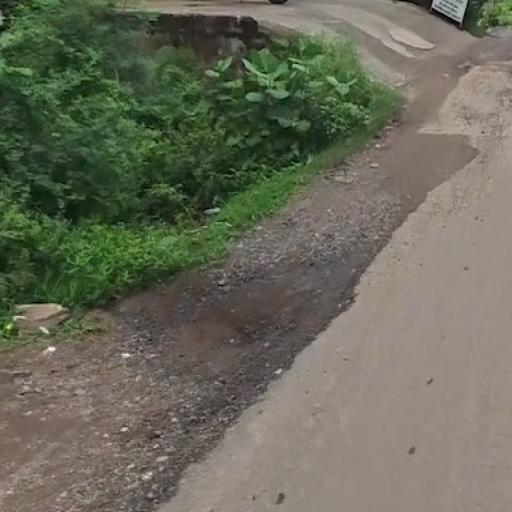edge_damage: (66, 138, 498, 492)
